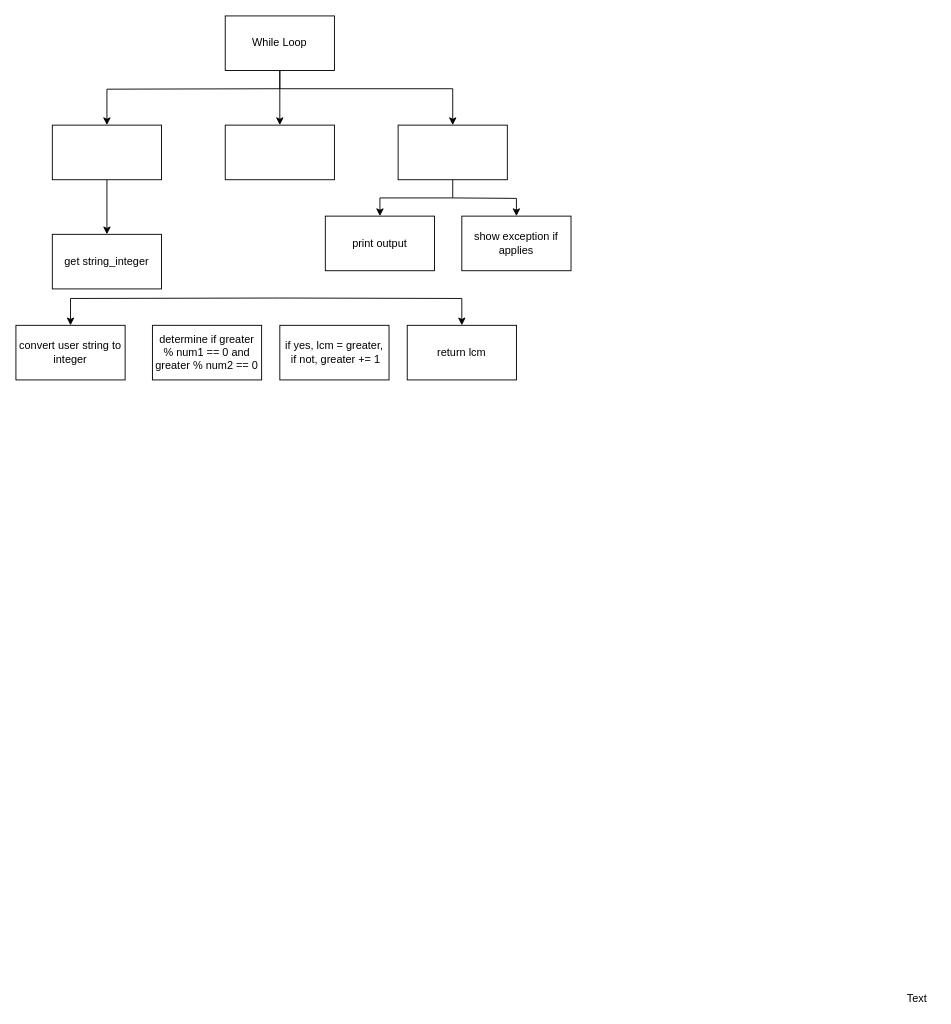
The diagram is 951 pixels wide and 1024 high, and some of its shapes have lost their labels. Each missing label, with the centre of its shape:
"Input" goes at (x=106, y=152).
"Output" goes at (x=452, y=152).
"Process" goes at (x=279, y=152).
